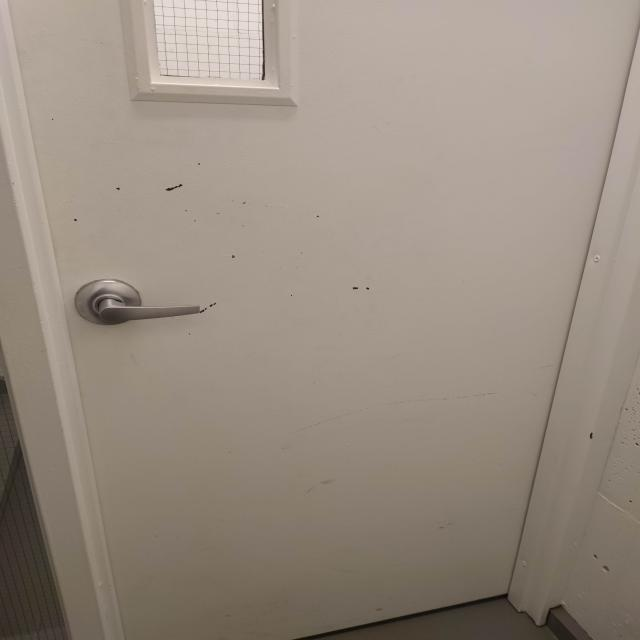door-handle: (75, 280, 200, 325)
